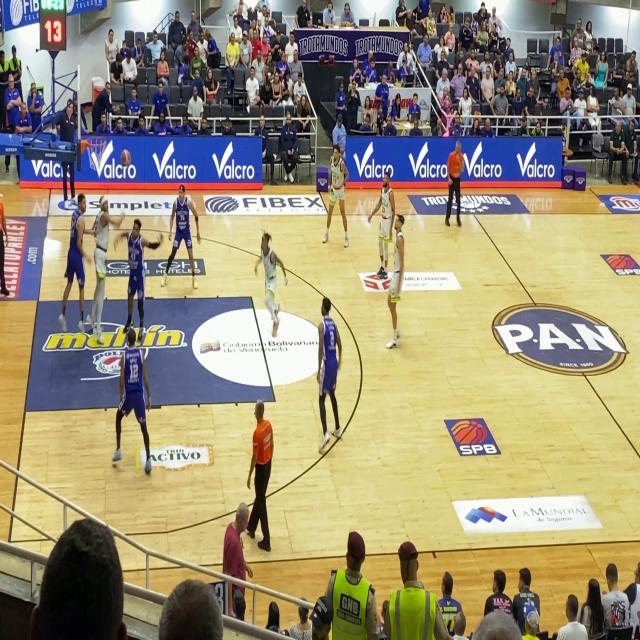Ball: (123, 150, 131, 172)
referee: (242, 396, 286, 554), (447, 126, 471, 236)
team1: (250, 224, 286, 342), (90, 187, 115, 339), (322, 135, 351, 258), (389, 208, 409, 351), (375, 170, 392, 284)
team2: (110, 314, 151, 473), (311, 278, 345, 450), (164, 172, 206, 301), (122, 210, 160, 332), (61, 187, 88, 335)
ubasket: (82, 134, 109, 170)
